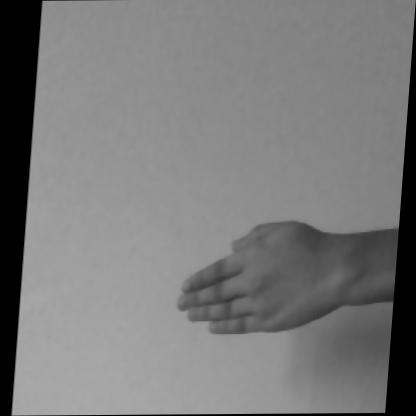palm: (167, 167, 383, 374)
